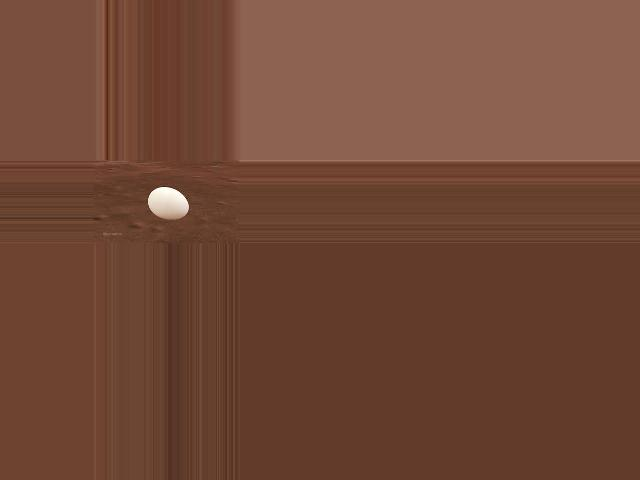egg: (148, 187, 189, 219)
